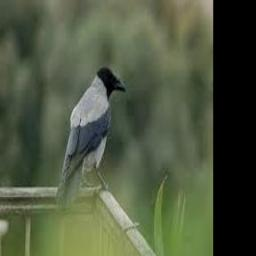Crow: (55, 65, 126, 205)
